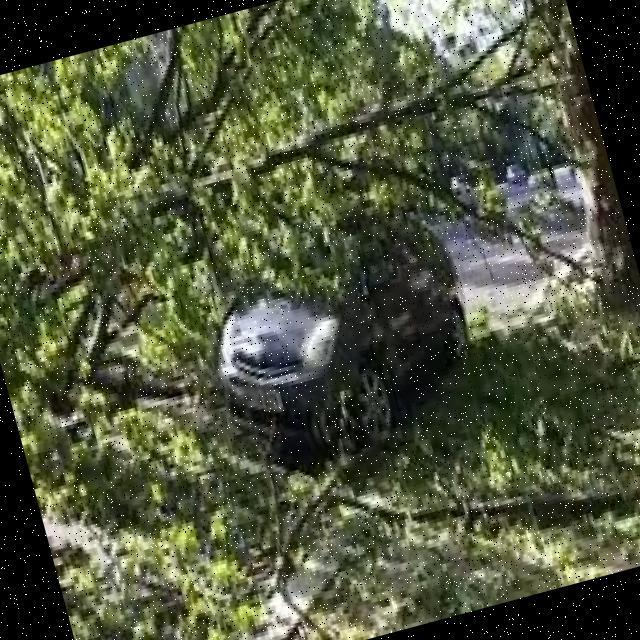fallen_object: (0, 0, 593, 343)
